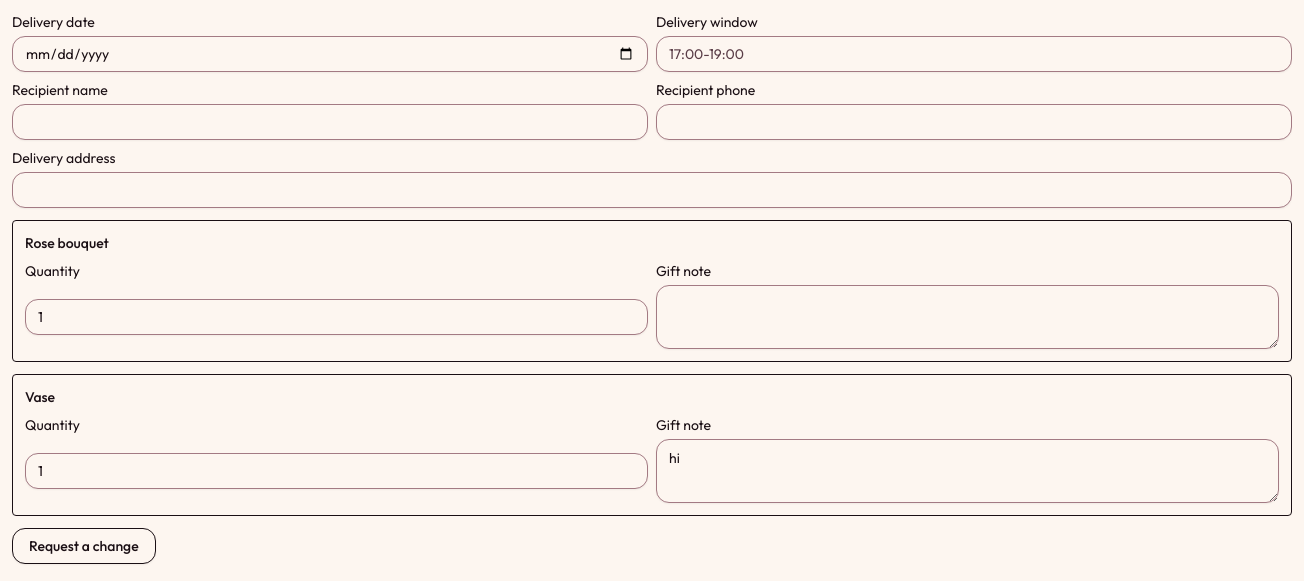
Test: ChangeRequestForm › shows an error when the request fails
Type "2026-08-20" into the date field labelled "Delivery date" at (330, 54), box [12,36,648,72]
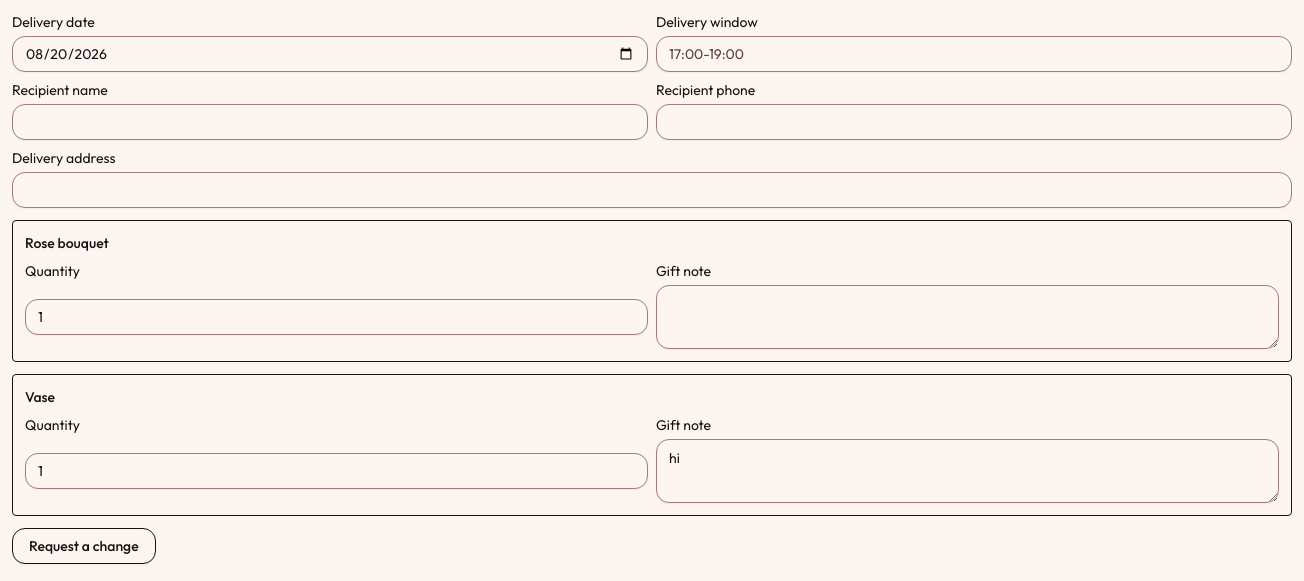
Click the button "Request a change" at (84, 546), box [12,528,156,564]
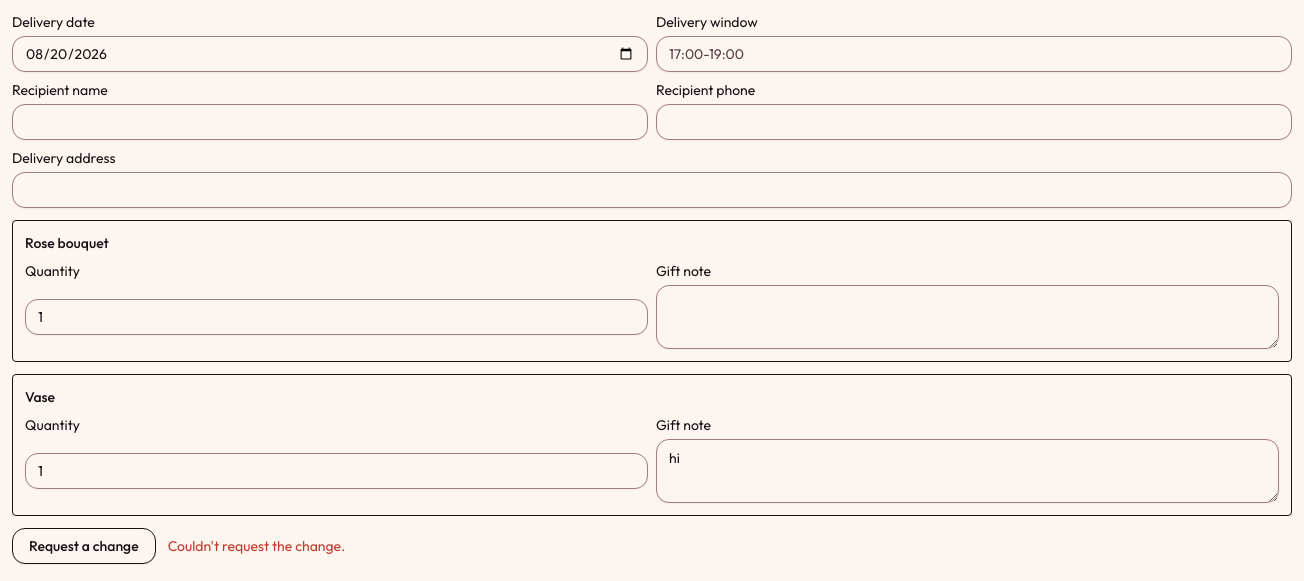
Expected: the text "Couldn't request the change." is shown, [168,536,345,556]
